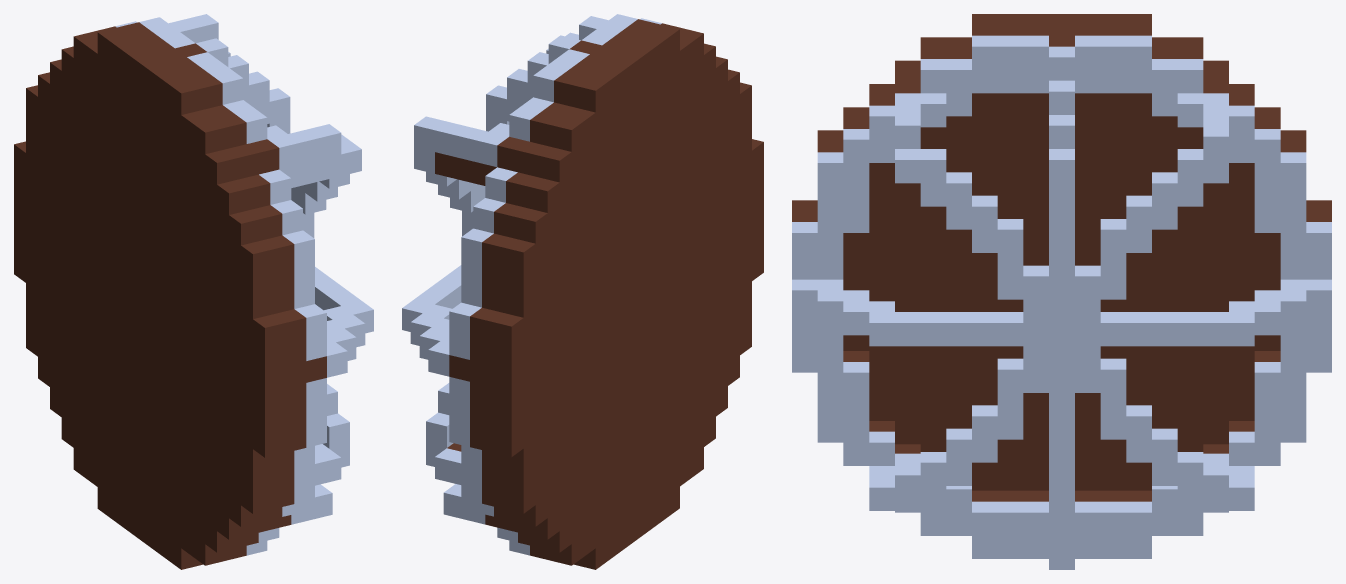
Rendered from fan_container.gltf.
3 views of the same model, side by side, from view 1: azimuth 30°, elevation 25°; view 2: azimuth 150°, elevation 25°; view 3: azimuth 270°, elevation 25° (orthographic). The views are drawn at different scales.
Bounding box in the file's own units: 7 × 22 × 21.
1 material, 1 textured.
